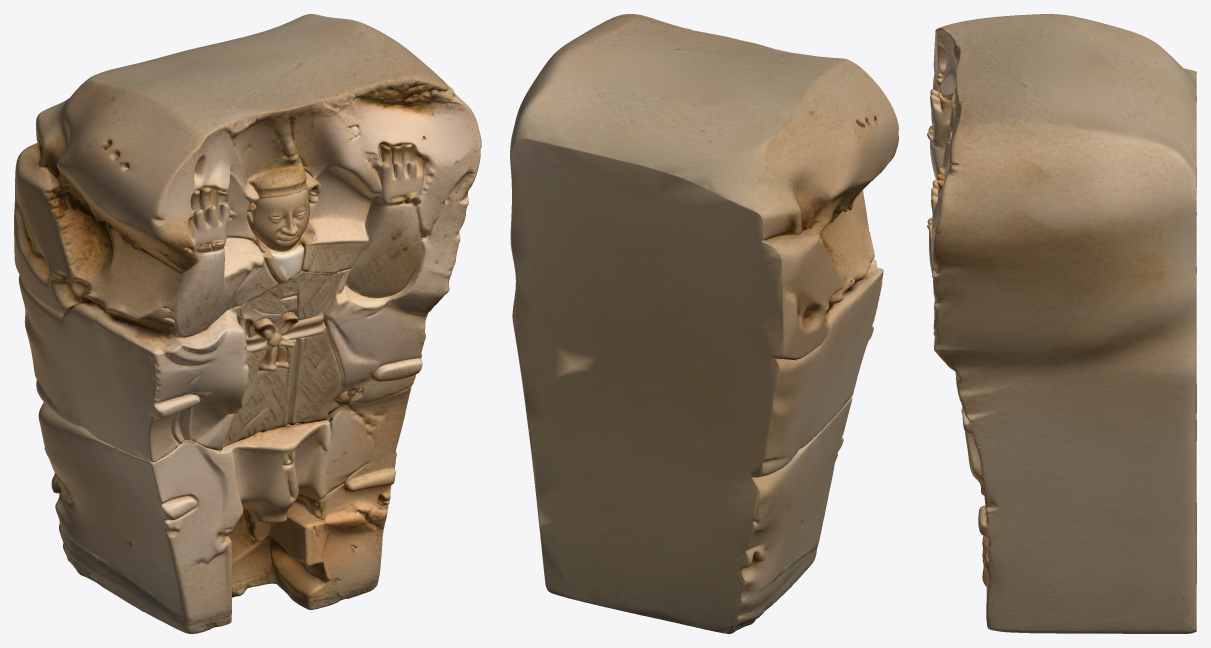
3 renders of one model, left to right at view 1: azimuth 30°, elevation 25°; view 2: azimuth 150°, elevation 25°; view 3: azimuth 270°, elevation 25°, orthographic. The views are drawn at different scales.
Visible parts, largest first — view 1: node_0; view 2: node_0; view 3: node_0.
Boxes of the visible parts, left/top/right/bottom form: node_0: left=14, top=14, right=481, bottom=633; node_0: left=510, top=14, right=898, bottom=633; node_0: left=927, top=14, right=1196, bottom=633.
Size of the model in its own units: 0.7059 by 1.04 by 0.4825.
1 material, 1 textured.
